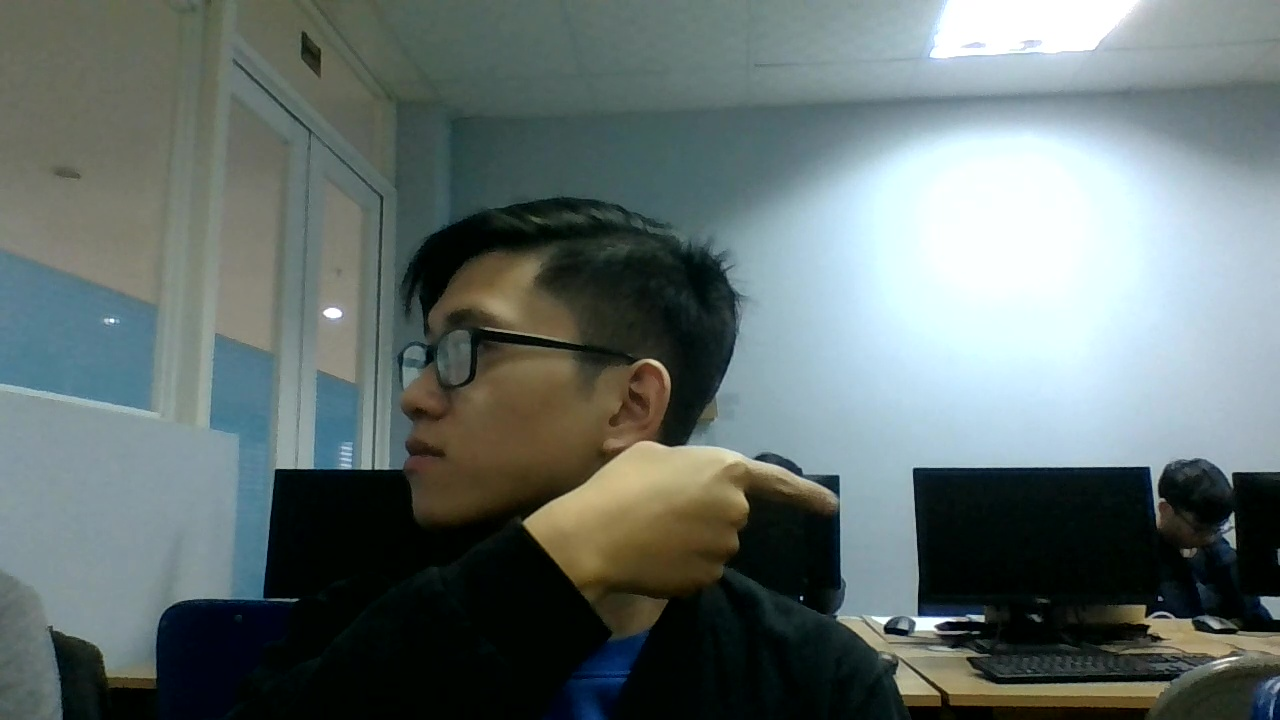left: (577, 429, 851, 607)
